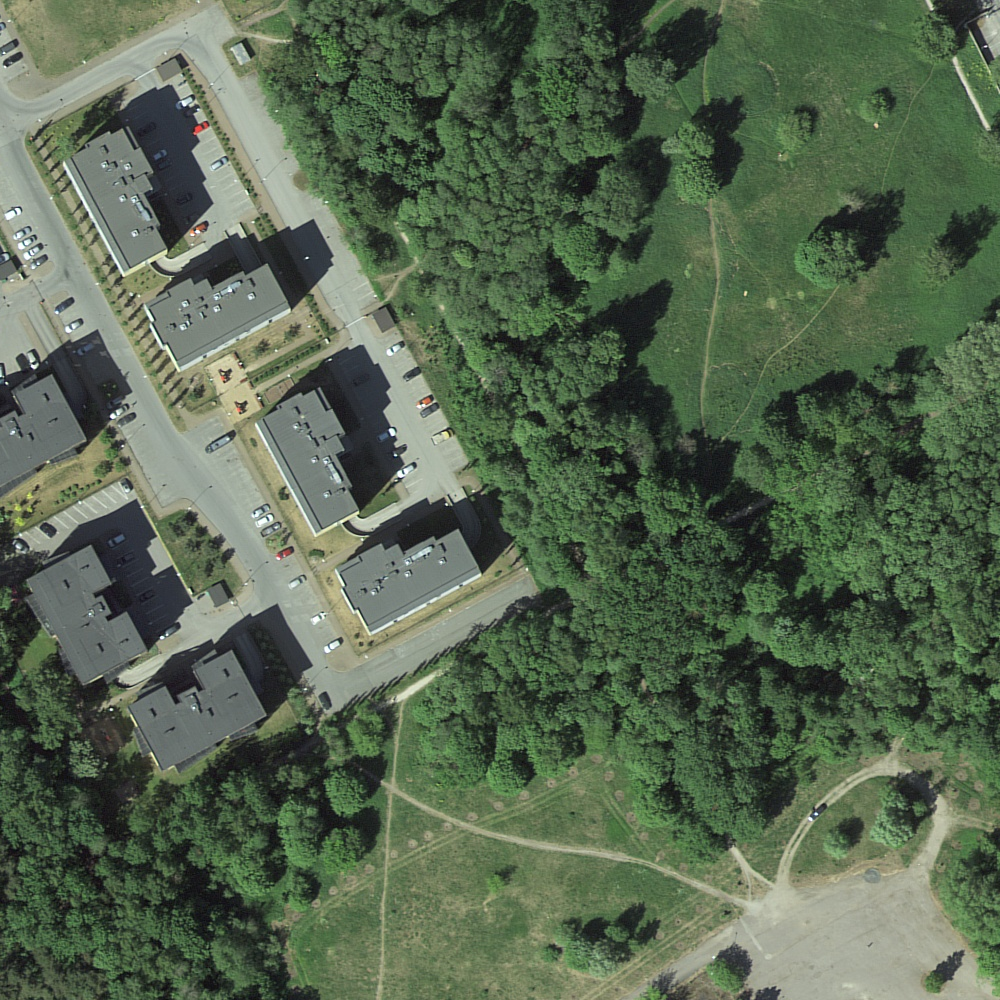building: (27, 545, 148, 684), (128, 650, 267, 771), (336, 528, 482, 633), (65, 128, 169, 274), (257, 389, 359, 534), (144, 264, 290, 365), (1, 375, 87, 488), (372, 307, 396, 333), (157, 59, 183, 83), (206, 584, 229, 608), (232, 43, 251, 65)
